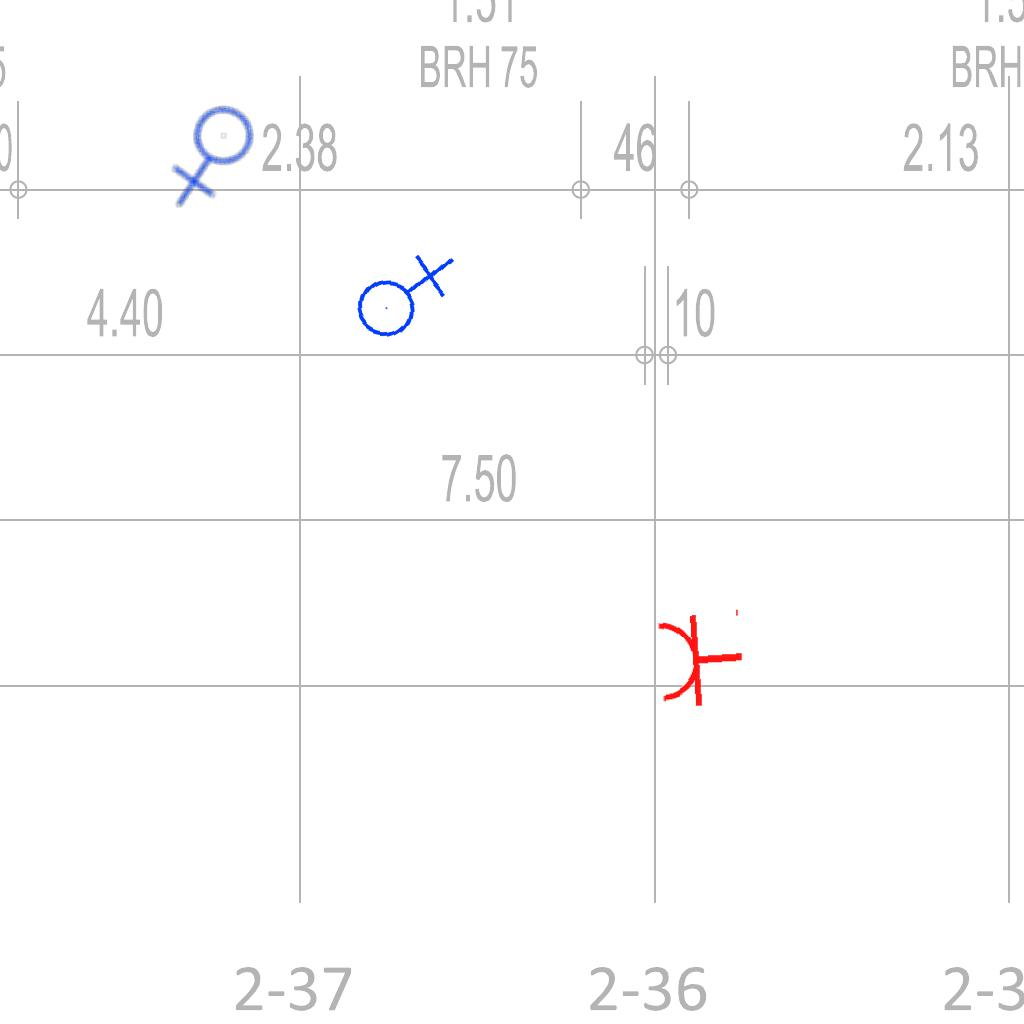Elektroanschluss_allgemein_230V_Geraeteanschlussdose_230V: (156, 98, 275, 212), (344, 239, 457, 347)
Schukosteckdose_einfach: (653, 605, 748, 711)
